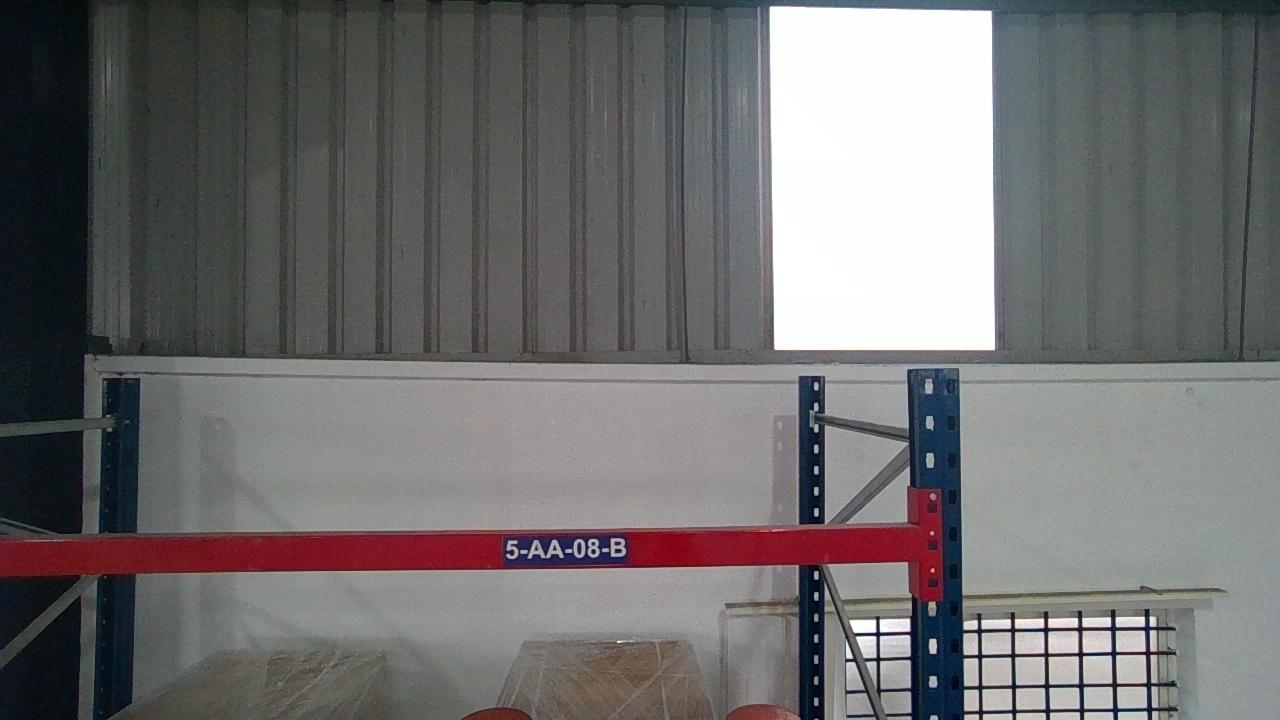h_rack: (3, 529, 922, 572)
